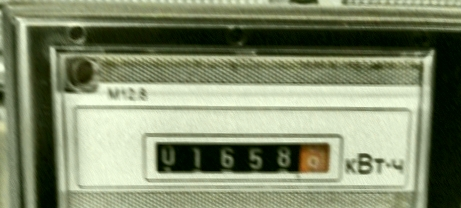0: (159, 143, 176, 164)
1: (189, 144, 203, 168)
5: (247, 145, 263, 169)
6: (218, 144, 236, 169)
8: (275, 145, 292, 167)
9: (304, 152, 320, 173)
screen: (140, 127, 346, 188)
